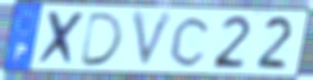2: (255, 14, 297, 73), (212, 13, 254, 71)
C: (167, 14, 214, 69)
D: (77, 12, 126, 68)
V: (129, 9, 177, 72)
X: (34, 9, 88, 69)
